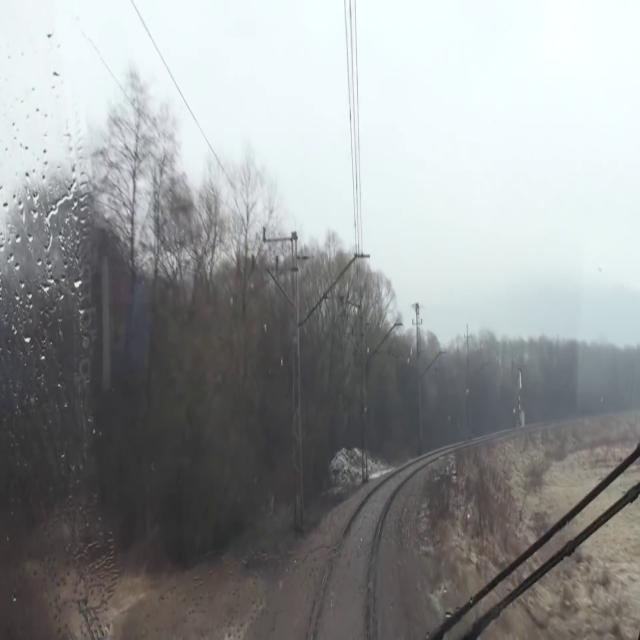rail-track: (312, 469, 408, 639)
